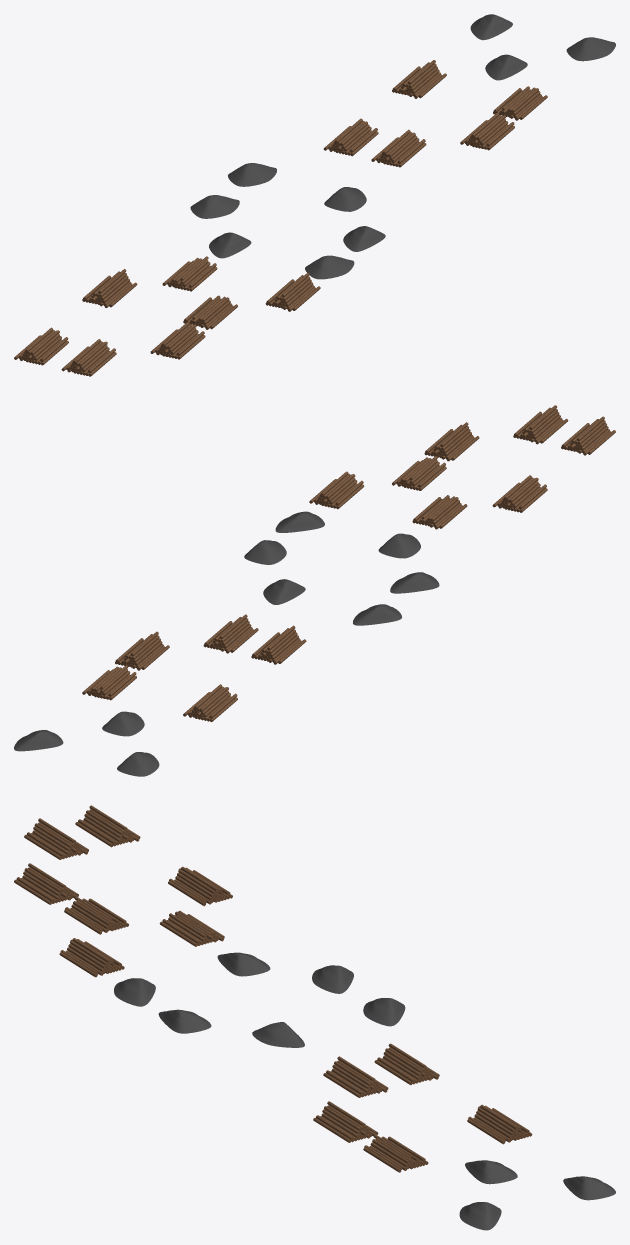
Rendered from HuoWu.FBX.
3 views of the same model, one above another, from view 1: azimuth 30°, elevation 25°; view 2: azimuth 210°, elevation 25°; view 3: azimuth 270°, elevation 25° (orthographic). The views are drawn at different scales.
Parts seen in each view (by area): view 1: qingmo_bbfa69b2-b90e-4641-ab91-7fde82ec9828, qingmo_066f322f-25a8-4b3e-a2f0-253b3483e94c, qingmo_a330efc3-7dbd-44de-8730-3d0244a8cb87, qingmo_cd1a6623-6fbd-48a4-8627-2538cfe557b9; view 2: qingmo_bbfa69b2-b90e-4641-ab91-7fde82ec9828, qingmo_066f322f-25a8-4b3e-a2f0-253b3483e94c, qingmo_a330efc3-7dbd-44de-8730-3d0244a8cb87, qingmo_cd1a6623-6fbd-48a4-8627-2538cfe557b9; view 3: qingmo_bbfa69b2-b90e-4641-ab91-7fde82ec9828, qingmo_066f322f-25a8-4b3e-a2f0-253b3483e94c, qingmo_a330efc3-7dbd-44de-8730-3d0244a8cb87, qingmo_cd1a6623-6fbd-48a4-8627-2538cfe557b9.
Part boxes in pixels (bbox=[...]): qingmo_bbfa69b2-b90e-4641-ab91-7fde82ec9828: bbox=[14, 256, 320, 376]; qingmo_066f322f-25a8-4b3e-a2f0-253b3483e94c: bbox=[323, 60, 547, 167]; qingmo_a330efc3-7dbd-44de-8730-3d0244a8cb87: bbox=[190, 163, 385, 279]; qingmo_cd1a6623-6fbd-48a4-8627-2538cfe557b9: bbox=[470, 14, 615, 80]; qingmo_bbfa69b2-b90e-4641-ab91-7fde82ec9828: bbox=[309, 405, 615, 529]; qingmo_066f322f-25a8-4b3e-a2f0-253b3483e94c: bbox=[82, 614, 306, 721]; qingmo_a330efc3-7dbd-44de-8730-3d0244a8cb87: bbox=[244, 511, 439, 625]; qingmo_cd1a6623-6fbd-48a4-8627-2538cfe557b9: bbox=[14, 711, 159, 776]; qingmo_bbfa69b2-b90e-4641-ab91-7fde82ec9828: bbox=[14, 805, 232, 977]; qingmo_066f322f-25a8-4b3e-a2f0-253b3483e94c: bbox=[313, 1043, 532, 1172]; qingmo_a330efc3-7dbd-44de-8730-3d0244a8cb87: bbox=[114, 952, 405, 1047]; qingmo_cd1a6623-6fbd-48a4-8627-2538cfe557b9: bbox=[459, 1160, 615, 1230].
Bounding box in the file's own units: 29508 × 18157 × 491.
Materials: 2 (1 with a texture image).
